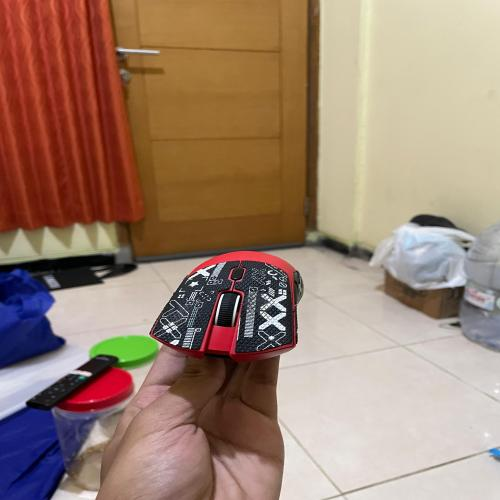mouse: (139, 240, 330, 364)
